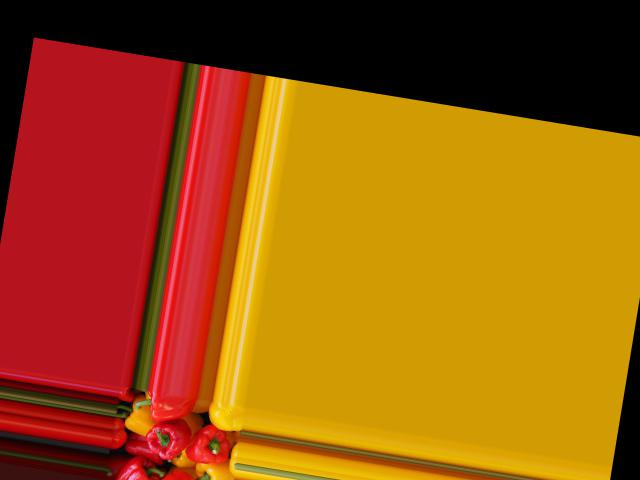bell_pepper: (196, 457, 236, 480)
